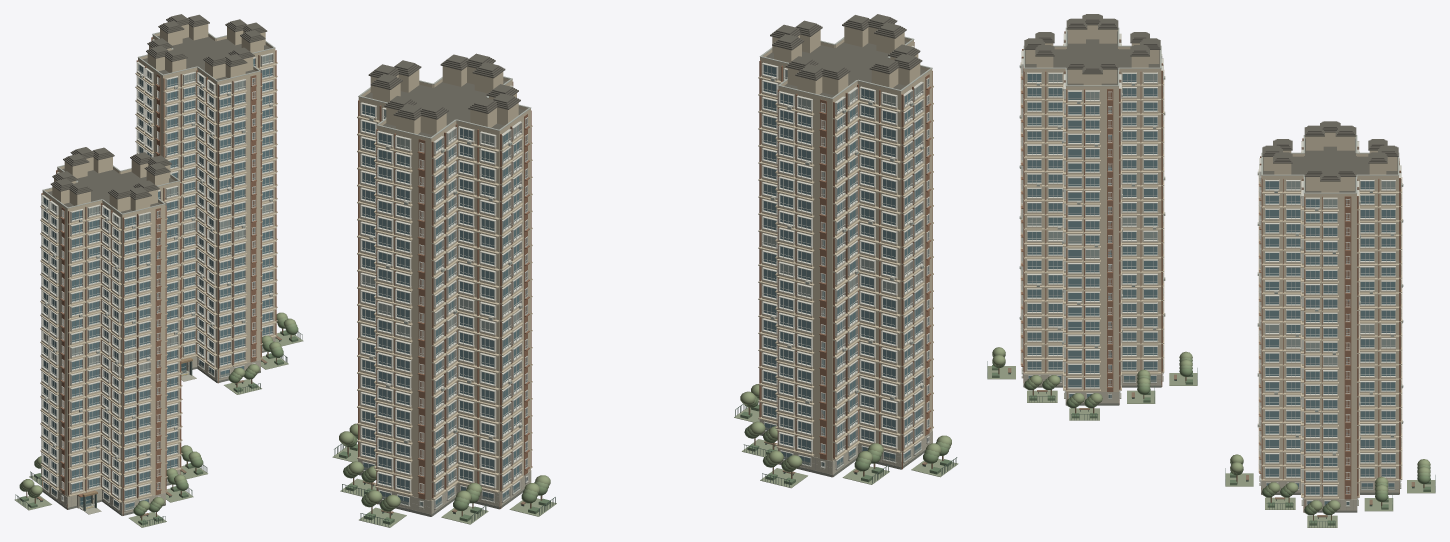
File: middle-3.glb
3 views of the same model, side by side, from view 1: azimuth 30°, elevation 25°; view 2: azimuth 150°, elevation 25°; view 3: azimuth 270°, elevation 25° (orthographic). The views are drawn at different scales.
Visible parts, largest first — view 1: korean-facade-parts-e0dfd3, korean-facade-parts-d5c9af, korean-facade-surface-728d91, korean-facade-surface-d5c9af, korean-facade-parts-9b7860, korean-facade-parts-716e64, middle-3, korean-facade-surface-9eaaa4, korean-facade-parts-9ba48a, korean-facade-parts-94a17c, korean-facade-parts-c5c0ae, korean-facade-parts-778b69 (+6 smaller); view 2: korean-facade-parts-e0dfd3, korean-facade-parts-d5c9af, korean-facade-surface-728d91, korean-facade-surface-d5c9af, korean-facade-parts-9b7860, korean-facade-parts-716e64, middle-3, korean-facade-parts-9ba48a, korean-facade-surface-9eaaa4, korean-facade-parts-94a17c, korean-facade-parts-c5c0ae, korean-facade-parts-778b69 (+7 smaller); view 3: korean-facade-parts-e0dfd3, korean-facade-surface-728d91, korean-facade-parts-d5c9af, korean-facade-surface-d5c9af, korean-facade-parts-9b7860, korean-facade-parts-716e64, middle-3, korean-facade-parts-9ba48a, korean-facade-surface-9eaaa4, korean-facade-parts-94a17c, korean-facade-parts-c5c0ae, korean-facade-parts-b8bcb2 (+4 smaller).
Boxes of the visible parts, bbox=[...] form: korean-facade-parts-e0dfd3: bbox=[41, 39, 273, 499]; korean-facade-parts-d5c9af: bbox=[40, 22, 277, 502]; korean-facade-surface-728d91: bbox=[43, 58, 272, 507]; korean-facade-surface-d5c9af: bbox=[43, 37, 275, 503]; korean-facade-parts-9b7860: bbox=[41, 37, 276, 515]; korean-facade-parts-716e64: bbox=[50, 14, 267, 199]; middle-3: bbox=[47, 35, 270, 509]; korean-facade-surface-9eaaa4: bbox=[43, 54, 272, 379]; korean-facade-parts-9ba48a: bbox=[14, 332, 303, 527]; korean-facade-parts-94a17c: bbox=[22, 312, 295, 509]; korean-facade-parts-c5c0ae: bbox=[43, 337, 275, 513]; korean-facade-parts-778b69: bbox=[19, 321, 298, 515]; korean-facade-parts-e0dfd3: bbox=[360, 45, 929, 495]; korean-facade-parts-d5c9af: bbox=[357, 23, 933, 499]; korean-facade-surface-728d91: bbox=[362, 65, 928, 504]; korean-facade-surface-d5c9af: bbox=[358, 43, 932, 500]; korean-facade-parts-9b7860: bbox=[358, 42, 932, 508]; korean-facade-parts-716e64: bbox=[368, 14, 922, 120]; middle-3: bbox=[364, 41, 925, 516]; korean-facade-parts-9ba48a: bbox=[332, 407, 958, 527]; korean-facade-surface-9eaaa4: bbox=[362, 70, 928, 336]; korean-facade-parts-94a17c: bbox=[339, 384, 951, 507]; korean-facade-parts-c5c0ae: bbox=[358, 419, 932, 514]; korean-facade-parts-778b69: bbox=[343, 396, 948, 511]; korean-facade-parts-e0dfd3: bbox=[1021, 33, 1401, 495]; korean-facade-surface-728d91: bbox=[1027, 74, 1395, 505]; korean-facade-parts-d5c9af: bbox=[1020, 25, 1402, 499]; korean-facade-surface-d5c9af: bbox=[1024, 71, 1398, 498]; korean-facade-parts-9b7860: bbox=[1021, 31, 1400, 512]; korean-facade-parts-716e64: bbox=[1024, 14, 1398, 181]; middle-3: bbox=[1025, 31, 1397, 192]; korean-facade-parts-9ba48a: bbox=[987, 366, 1435, 527]; korean-facade-surface-9eaaa4: bbox=[1027, 74, 1395, 375]; korean-facade-parts-94a17c: bbox=[992, 347, 1430, 510]; korean-facade-parts-c5c0ae: bbox=[1023, 372, 1399, 510]; korean-facade-parts-b8bcb2: bbox=[1023, 27, 1399, 193].
Bounding box in the file's own units: 87.8 × 69.94 × 84.8.
